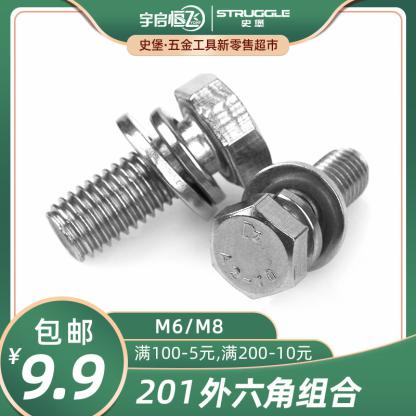FOD: (45, 71, 274, 268), (207, 143, 372, 302)
